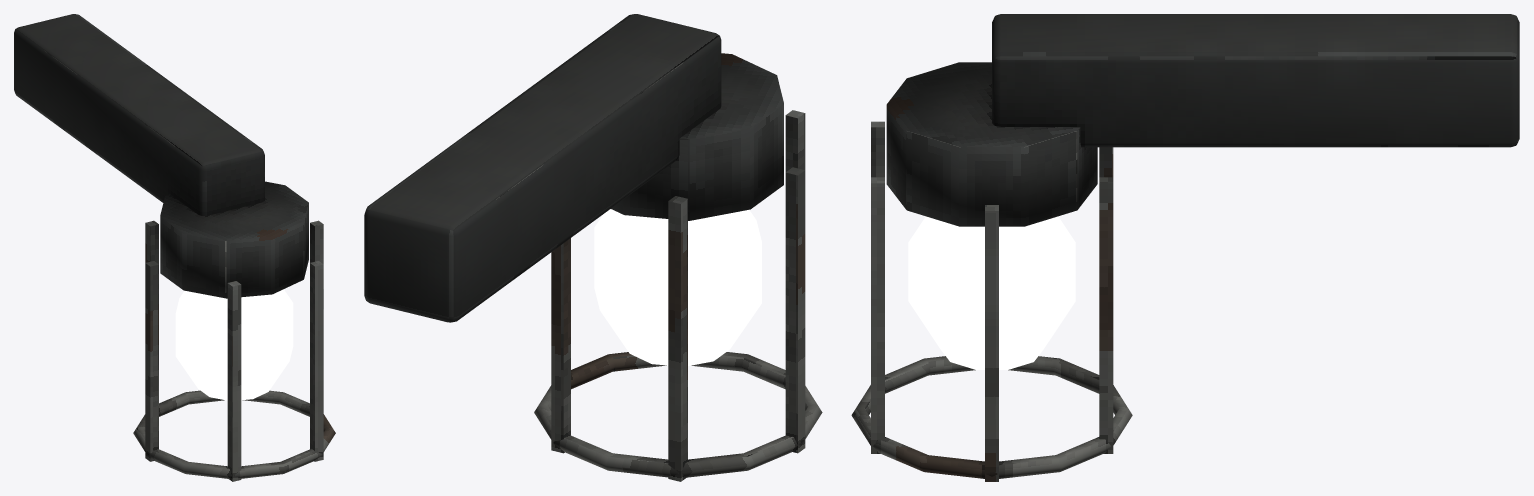
File: lamp_cage.glb
The picture shows the model from 3 angles, left to right: view 1: azimuth 30°, elevation 25°; view 2: azimuth 150°, elevation 25°; view 3: azimuth 270°, elevation 25°; orthographic projection. The views are drawn at different scales.
Parts seen in each view (by area): view 1: lamp_cage, glow; view 2: lamp_cage, glow; view 3: lamp_cage, glow.
Boxes of the visible parts, box(x1,y1,x2,y2) form: lamp_cage: box(14, 14, 335, 481); glow: box(175, 289, 293, 400); lamp_cage: box(364, 14, 822, 481); glow: box(594, 209, 761, 365); lamp_cage: box(851, 14, 1519, 481); glow: box(908, 216, 1075, 369).
Bounding box in the file's own units: 0.16 × 0.245 × 0.38.
2 materials, 1 textured.
